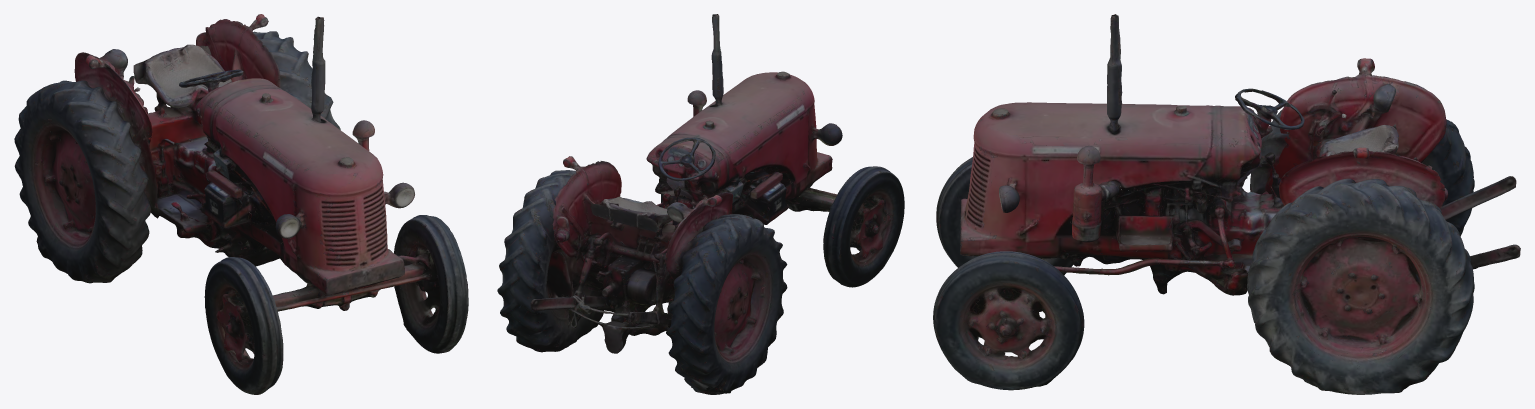
The model's file is tractor-david-brown.glb.
3 views of the same model, side by side, from view 1: azimuth 30°, elevation 25°; view 2: azimuth 150°, elevation 25°; view 3: azimuth 270°, elevation 25° (orthographic). The views are drawn at different scales.
Visible parts, largest first — view 1: Object_2, Object_3; view 2: Object_2, Object_3; view 3: Object_2, Object_3.
Boxes of the visible parts, <box> form: Object_2: <box>14,19,468,394</box>; Object_3: <box>54,14,414,313</box>; Object_2: <box>497,16,904,394</box>; Object_3: <box>516,14,884,387</box>; Object_2: <box>933,16,1520,392</box>; Object_3: <box>970,14,1494,394</box>.
Bounding box in the file's own units: 10.8 × 13.39 × 20.9.
Materials: 1 (1 with a texture image).
